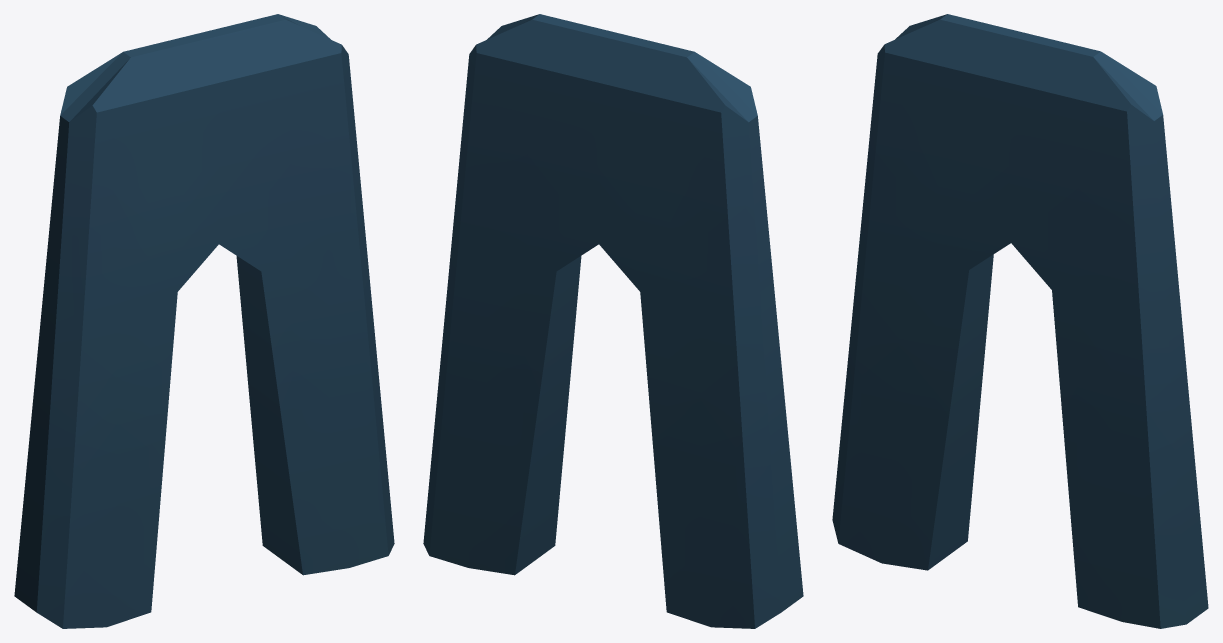
File: SM_Laundry_03.fbx
3 views of the same model, side by side, from view 1: azimuth 30°, elevation 25°; view 2: azimuth 150°, elevation 25°; view 3: azimuth 330°, elevation 25° (orthographic).
Visible parts, largest first — view 1: laundry_03; view 2: laundry_03; view 3: laundry_03.
Boxes of the visible parts, x1,y1,x2,y2 form: laundry_03: [14, 14, 394, 628]; laundry_03: [423, 14, 803, 628]; laundry_03: [832, 14, 1208, 628].
Size of the model in its own units: 52.86 by 77.22 by 10.87.
